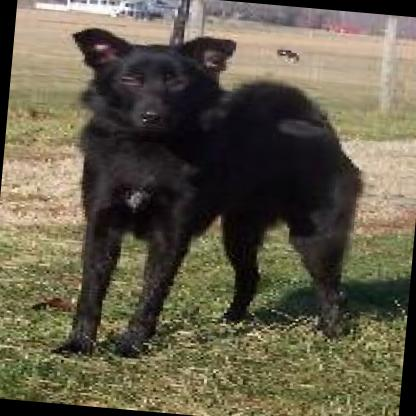schipperke: (37, 21, 380, 380)
